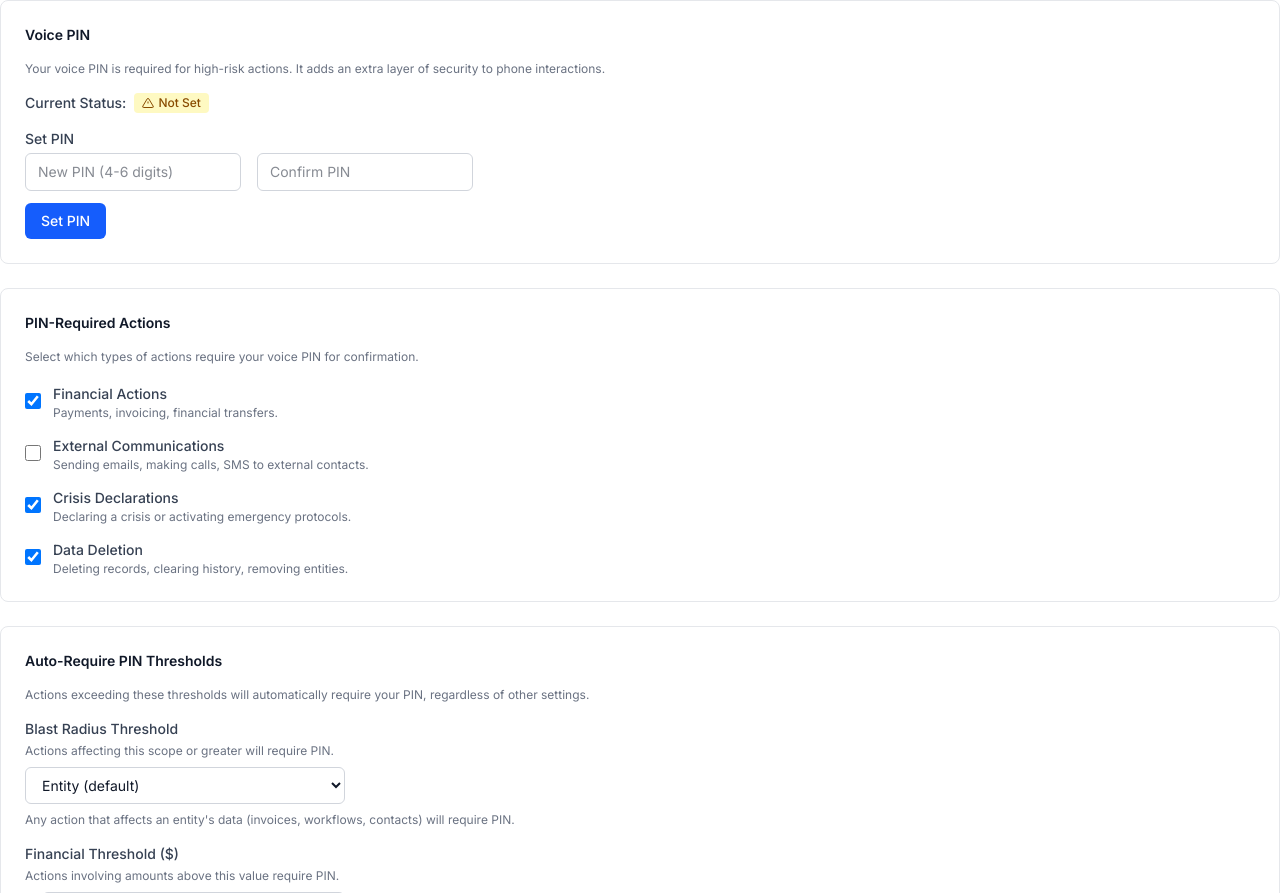
Safety Tab Enhancements › shows pin error when PINs do not match
The image size is (1280, 893).
Type "1234" into the password field with placeholder "New PIN (4-6 digits)". click: (133, 172)
box: x1=25 y1=153 x2=241 y2=191
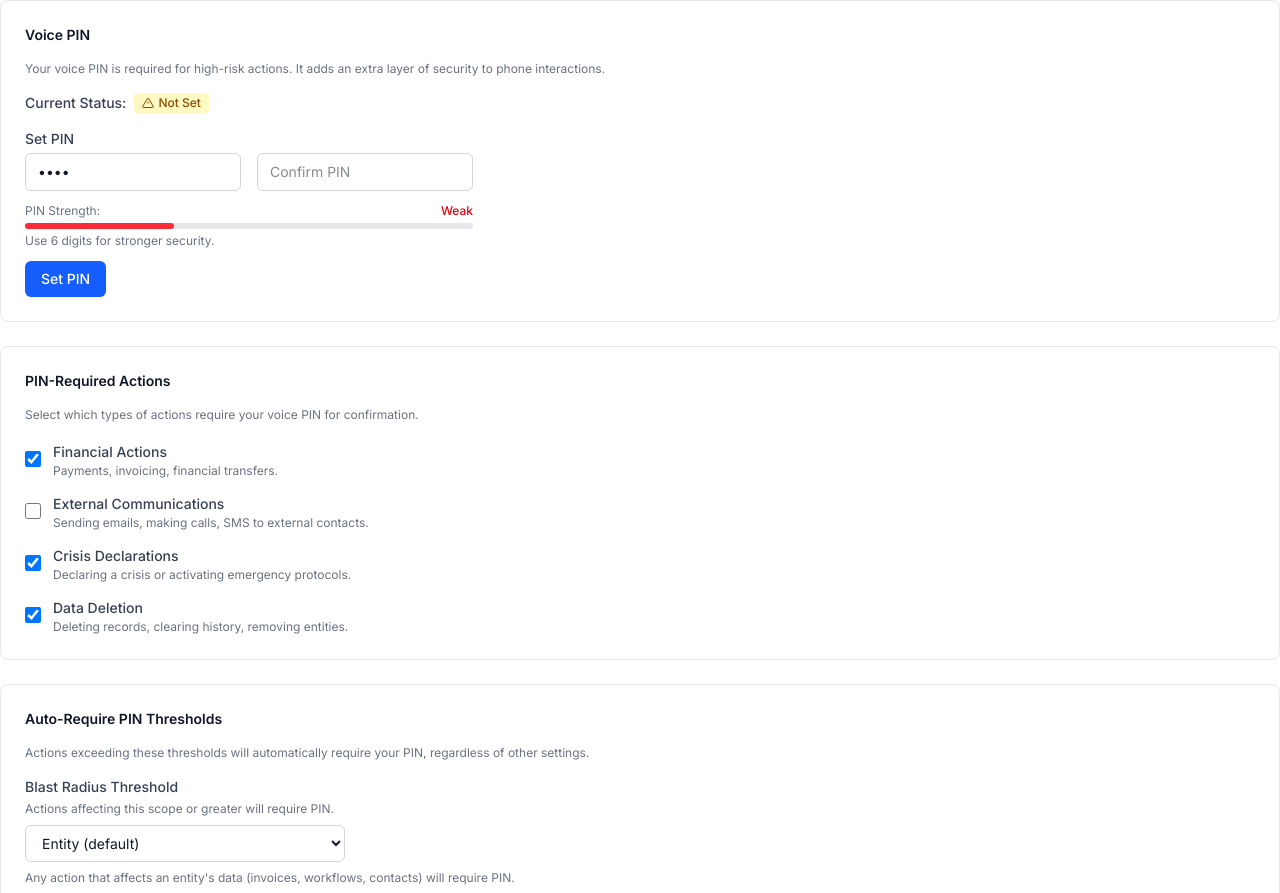
Type "5678" into the password field with placeholder "Confirm PIN". click: (365, 172)
box: x1=257 y1=153 x2=473 y2=191
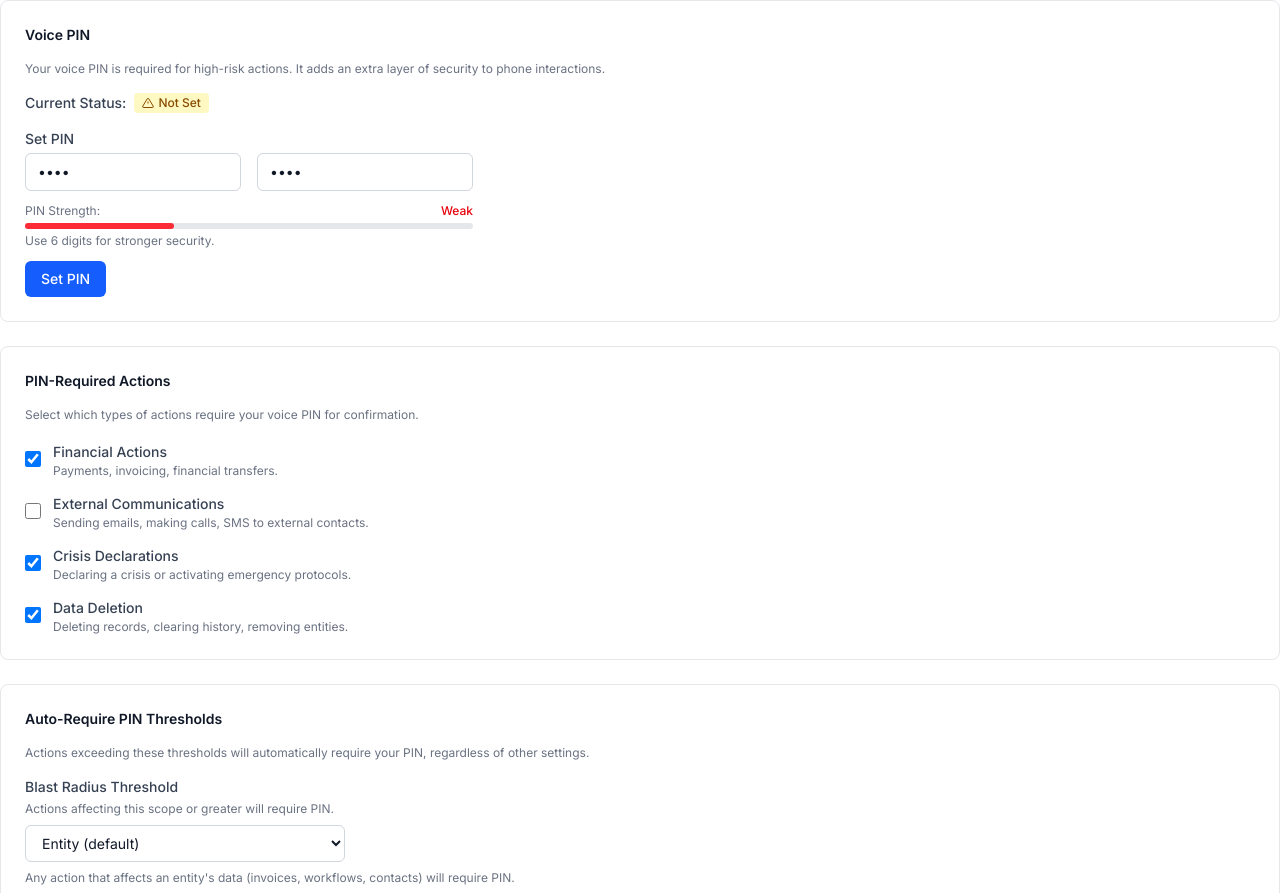
Click Set PIN to trigger validation
Click the button "Set PIN". click: (66, 279)
box: x1=25 y1=261 x2=106 y2=297
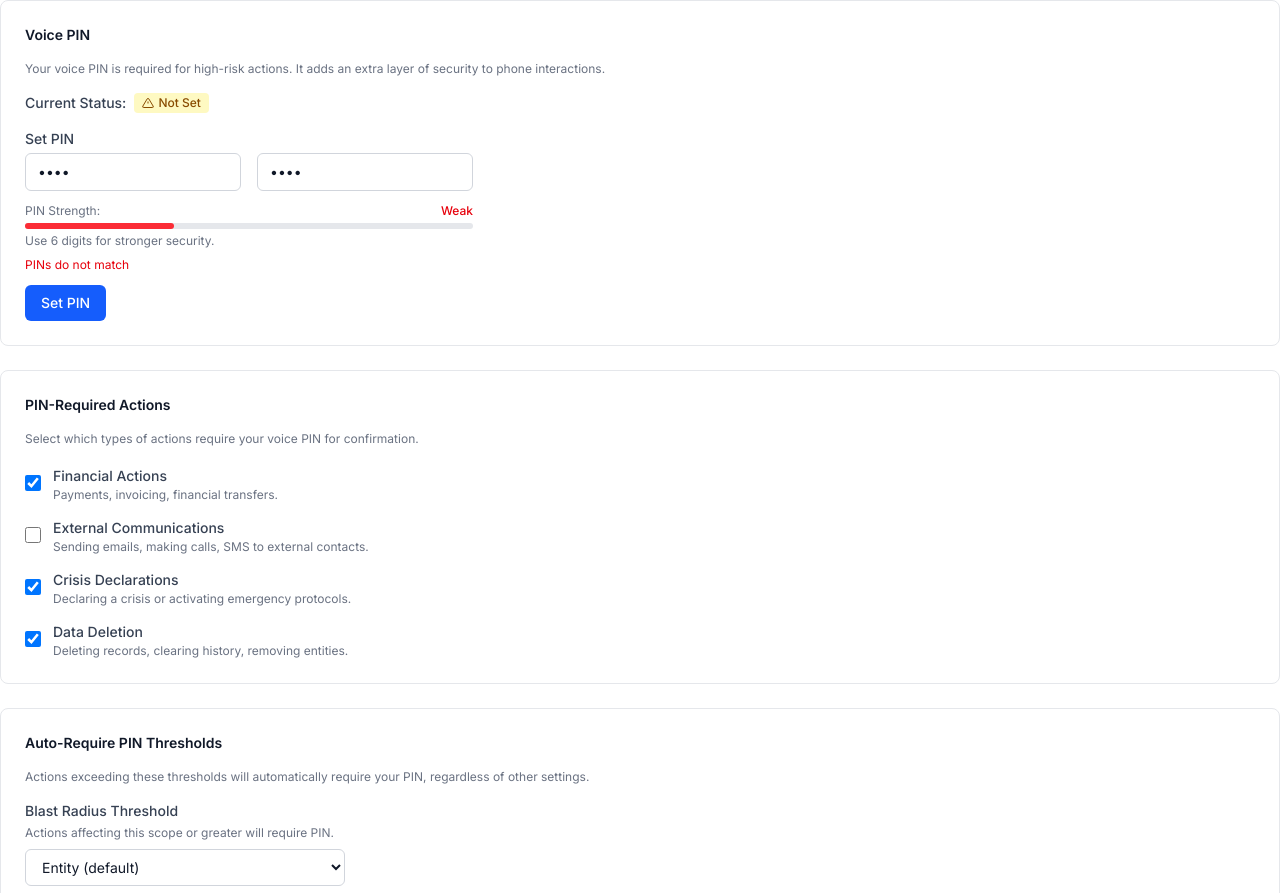
Expected: the text "PINs do not match" is shown, x1=25 y1=257 x2=129 y2=272
